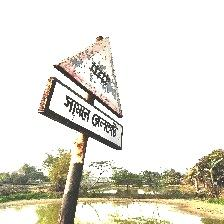Rail-crossing: (39, 35, 124, 151)
